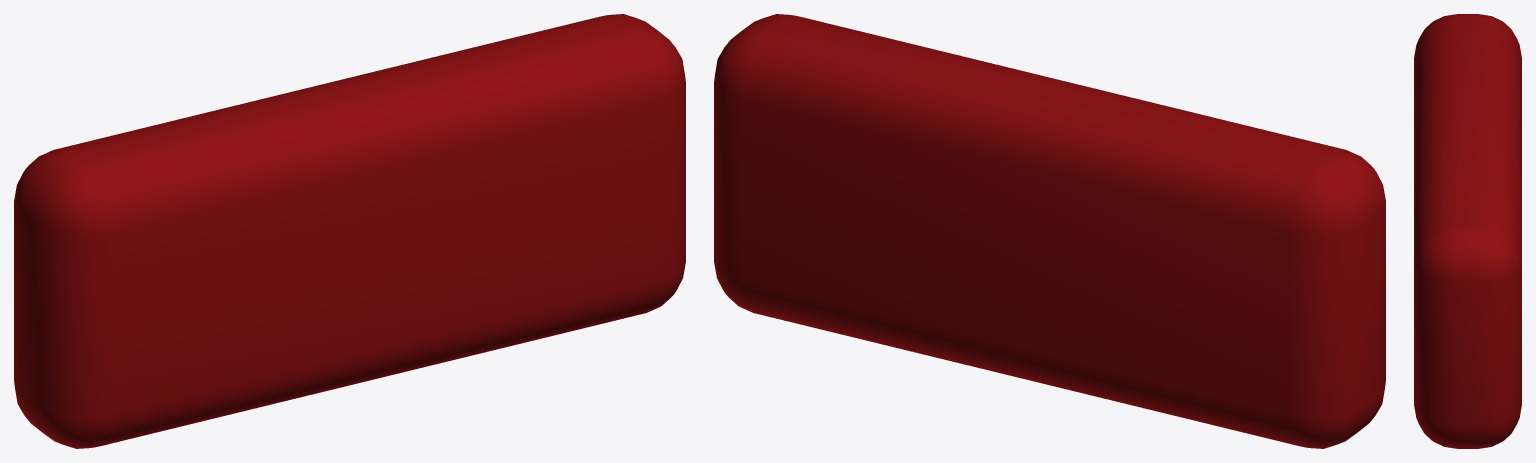
The model's file is tello_body_red.obj.
The picture shows the model from 3 angles, left to right: view 1: azimuth 30°, elevation 25°; view 2: azimuth 150°, elevation 25°; view 3: azimuth 270°, elevation 25°; orthographic projection. The views are drawn at different scales.
Parts seen in each view (by area): view 1: TT_canopy; view 2: TT_canopy; view 3: TT_canopy.
Part boxes in pixels (x1,y1,x2,y2): TT_canopy: [14, 14, 685, 448]; TT_canopy: [714, 14, 1385, 448]; TT_canopy: [1414, 14, 1521, 448].
Size of the model in its own units: 0.086 by 0.036 by 0.016.
